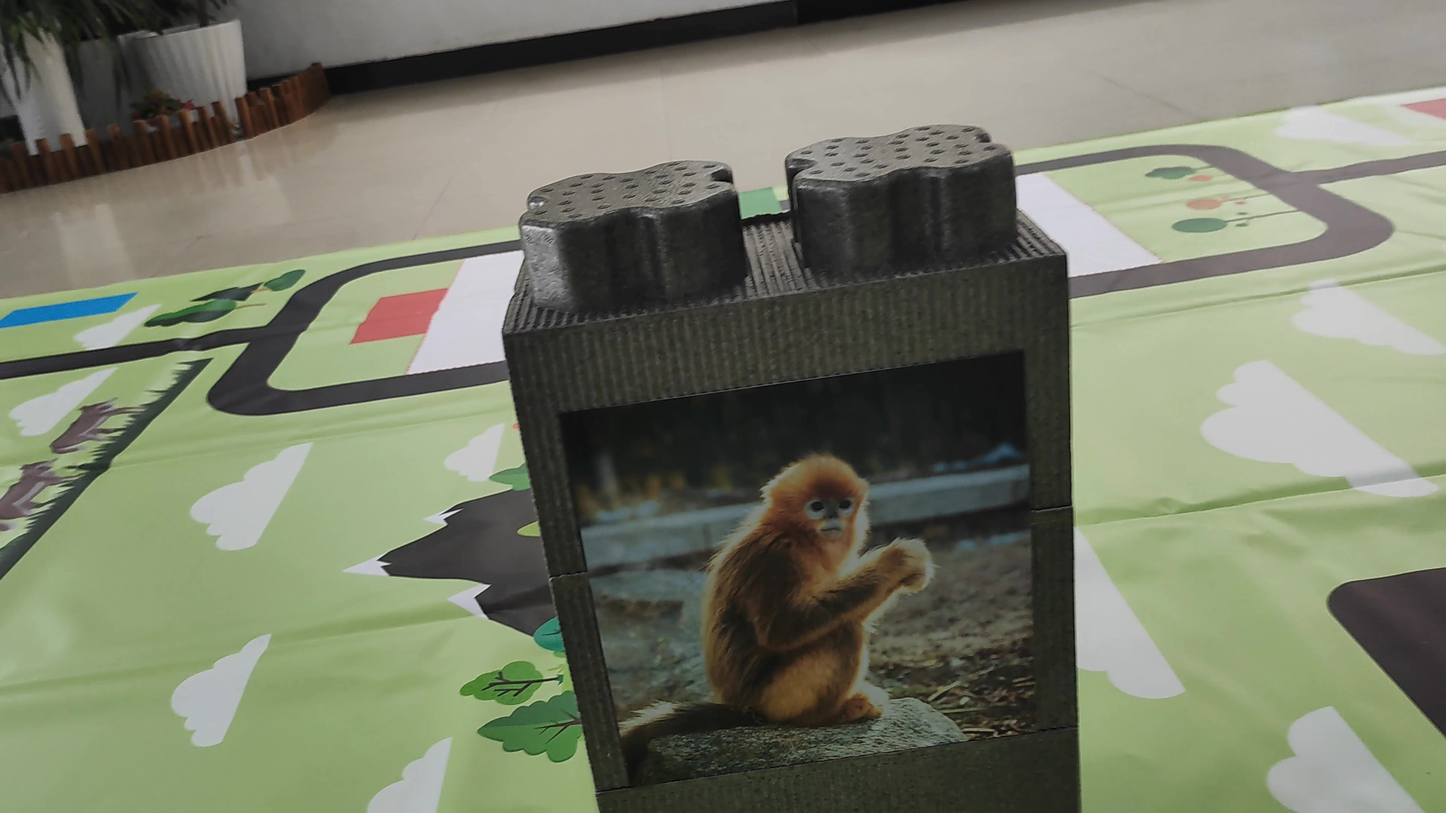monkey: (635, 398, 962, 747)
